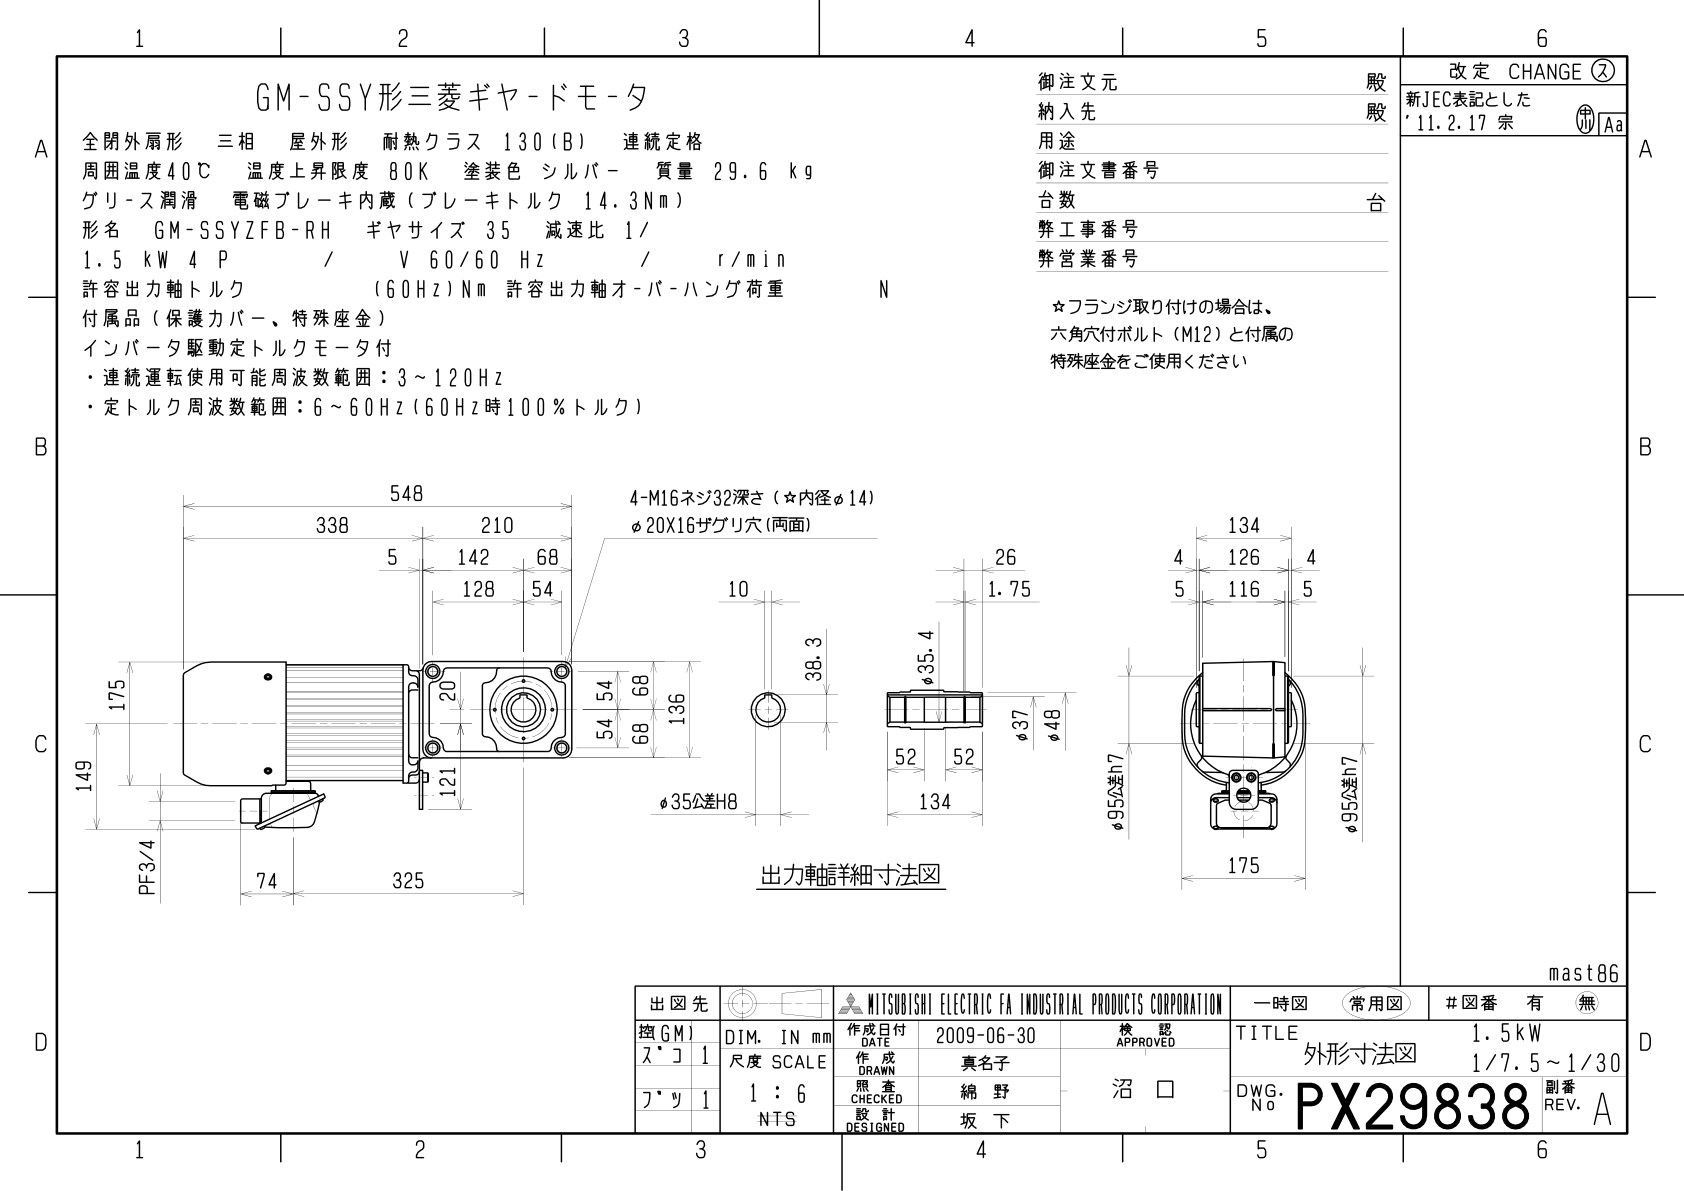GM_SSY_インバータ屋外_三相: (12, 6, 1684, 1191)
